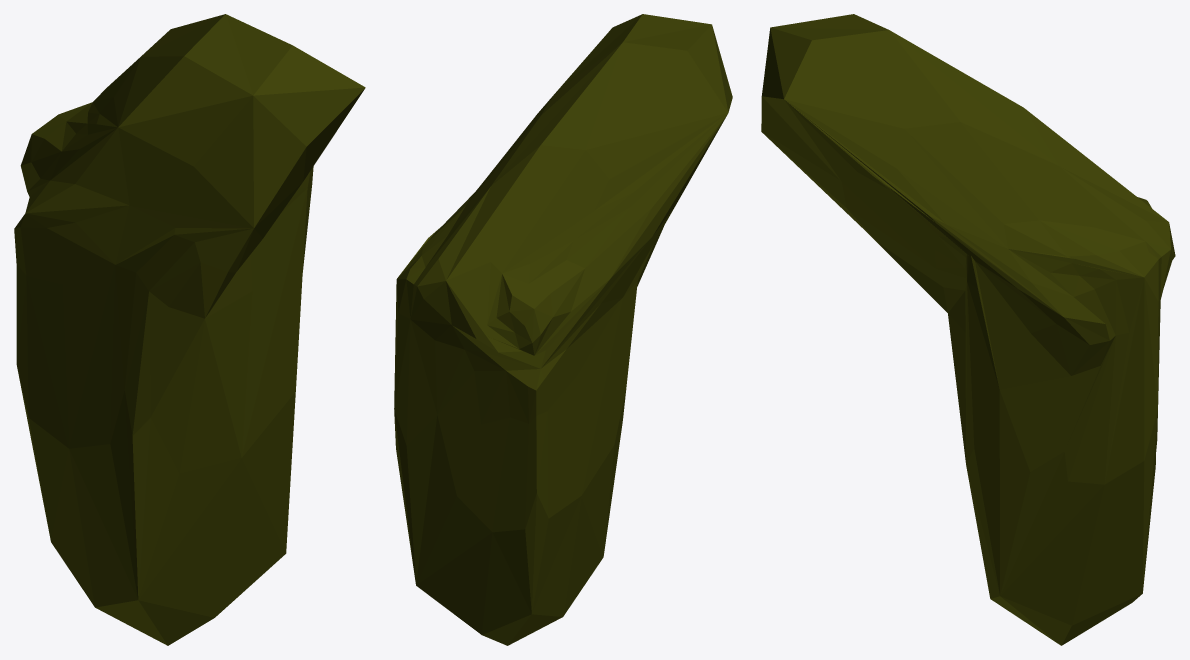
3 renders of one model, left to right at view 1: azimuth 30°, elevation 25°; view 2: azimuth 150°, elevation 25°; view 3: azimuth 270°, elevation 25°, orthographic. The views are drawn at different scales.
Visible parts, largest first — view 1: 581_Cube.2340; view 2: 581_Cube.2340; view 3: 581_Cube.2340.
Part boxes in pixels (left/top/right/bottom): 581_Cube.2340: left=14, top=14, right=365, bottom=645; 581_Cube.2340: left=394, top=14, right=732, bottom=645; 581_Cube.2340: left=761, top=14, right=1175, bottom=645.
Bounding box in the file's own units: 7.02 × 16.9 × 10.62.
